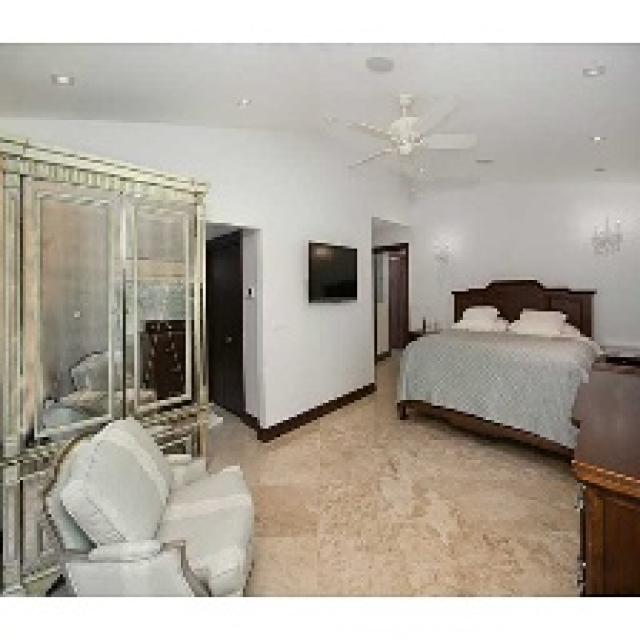Bed: (394, 277, 603, 460)
